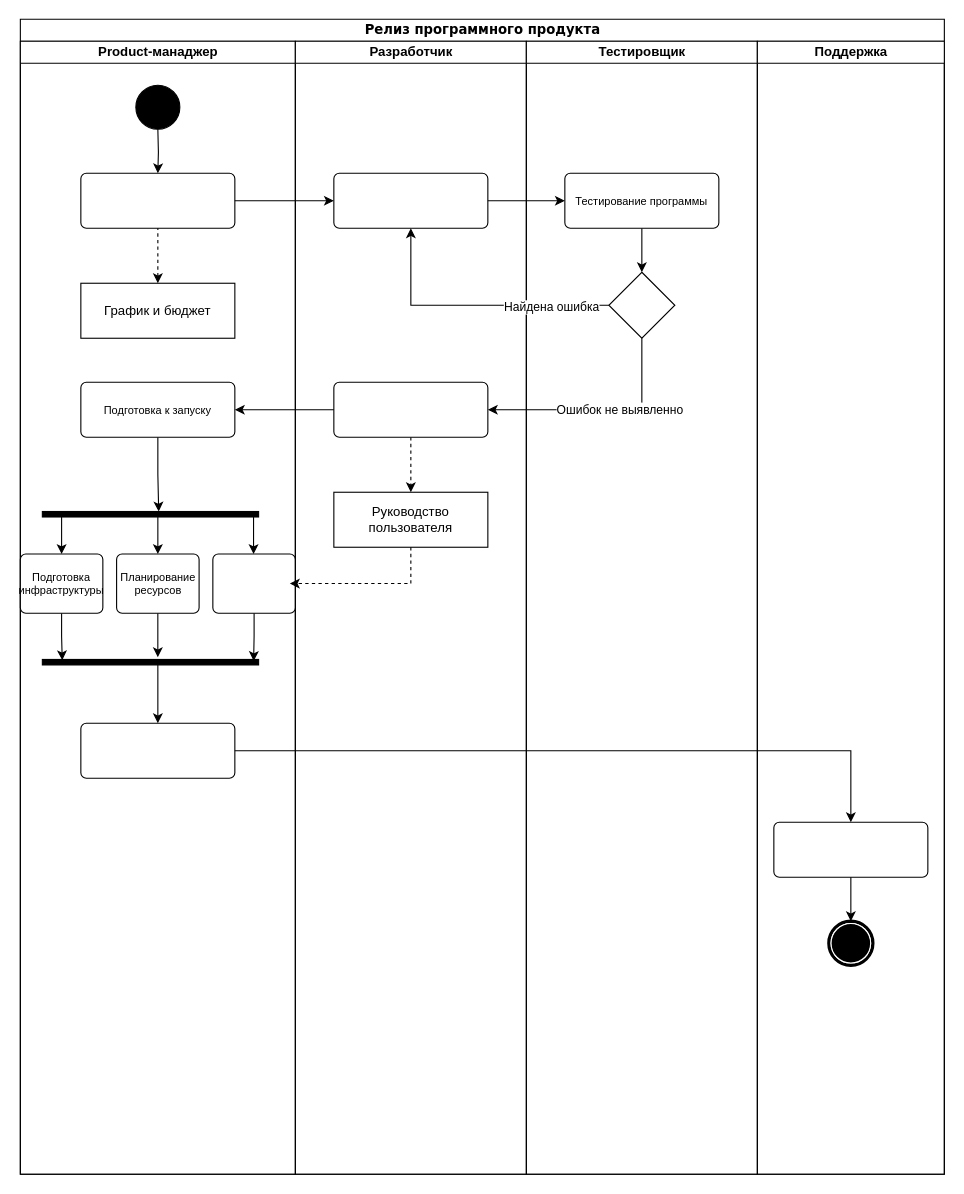
Some shapes in this 964 by 1194 pixel diagram are drawn without their labels. Each missing label, with the centre of its shape:
"Запуск" goes at point (157, 750).
"планирование релиза определение целей и функций" goes at point (157, 200).
"Подготовка персонала" goes at point (253, 583).
"Поддержка программы" goes at point (850, 849).
"Разработка и отладка" goes at point (410, 200).
"Создание установочного пакета" goes at point (410, 409).
